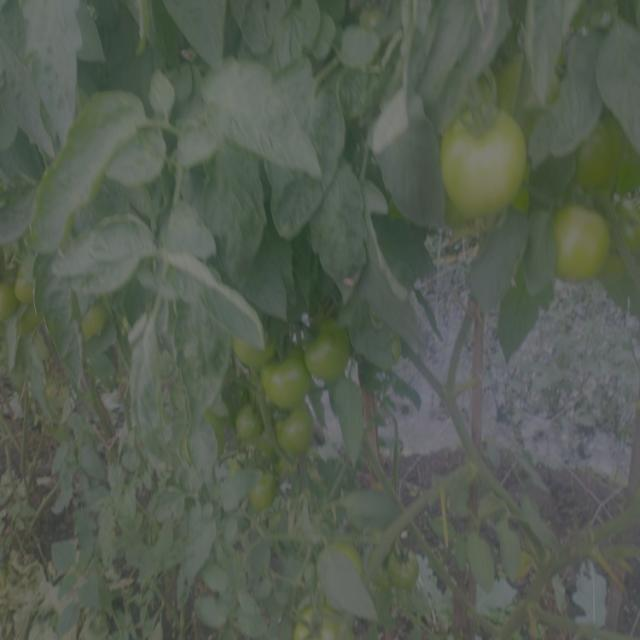tomato: (437, 97, 532, 222), (551, 202, 610, 290), (303, 328, 348, 388), (260, 361, 308, 412), (273, 406, 320, 455), (321, 534, 366, 585), (231, 405, 271, 450), (298, 604, 344, 640), (382, 542, 420, 585), (250, 468, 284, 515), (238, 329, 274, 368), (16, 269, 40, 311), (81, 302, 105, 337), (1, 284, 16, 329)
